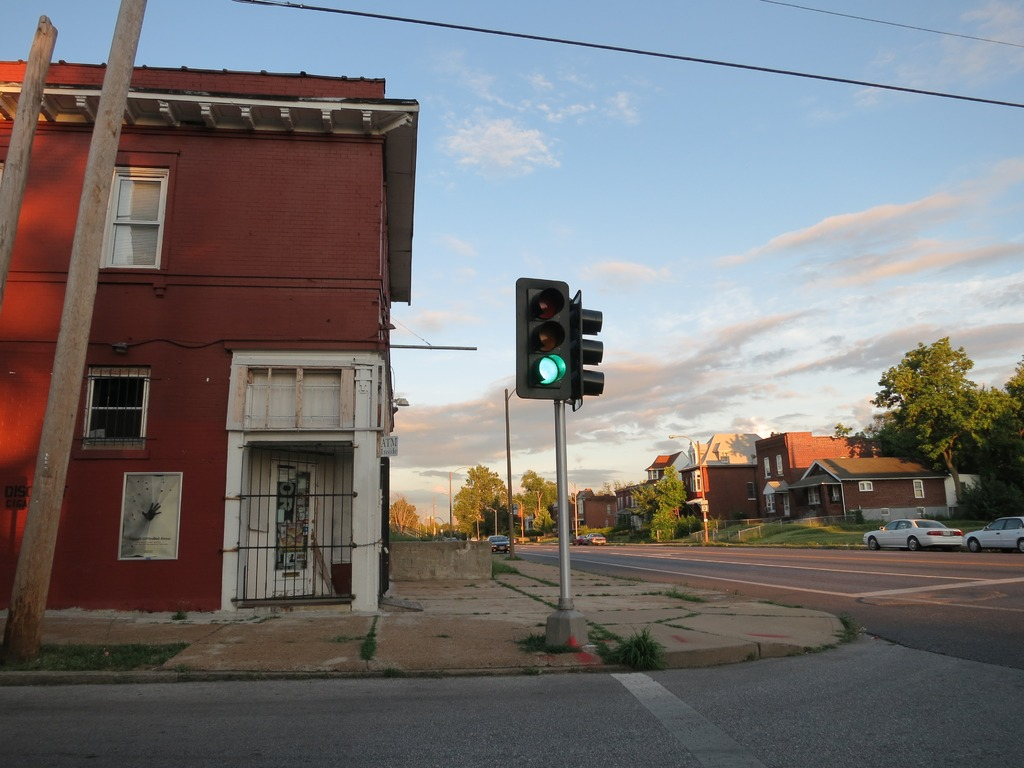green_light: (520, 282, 568, 393)
